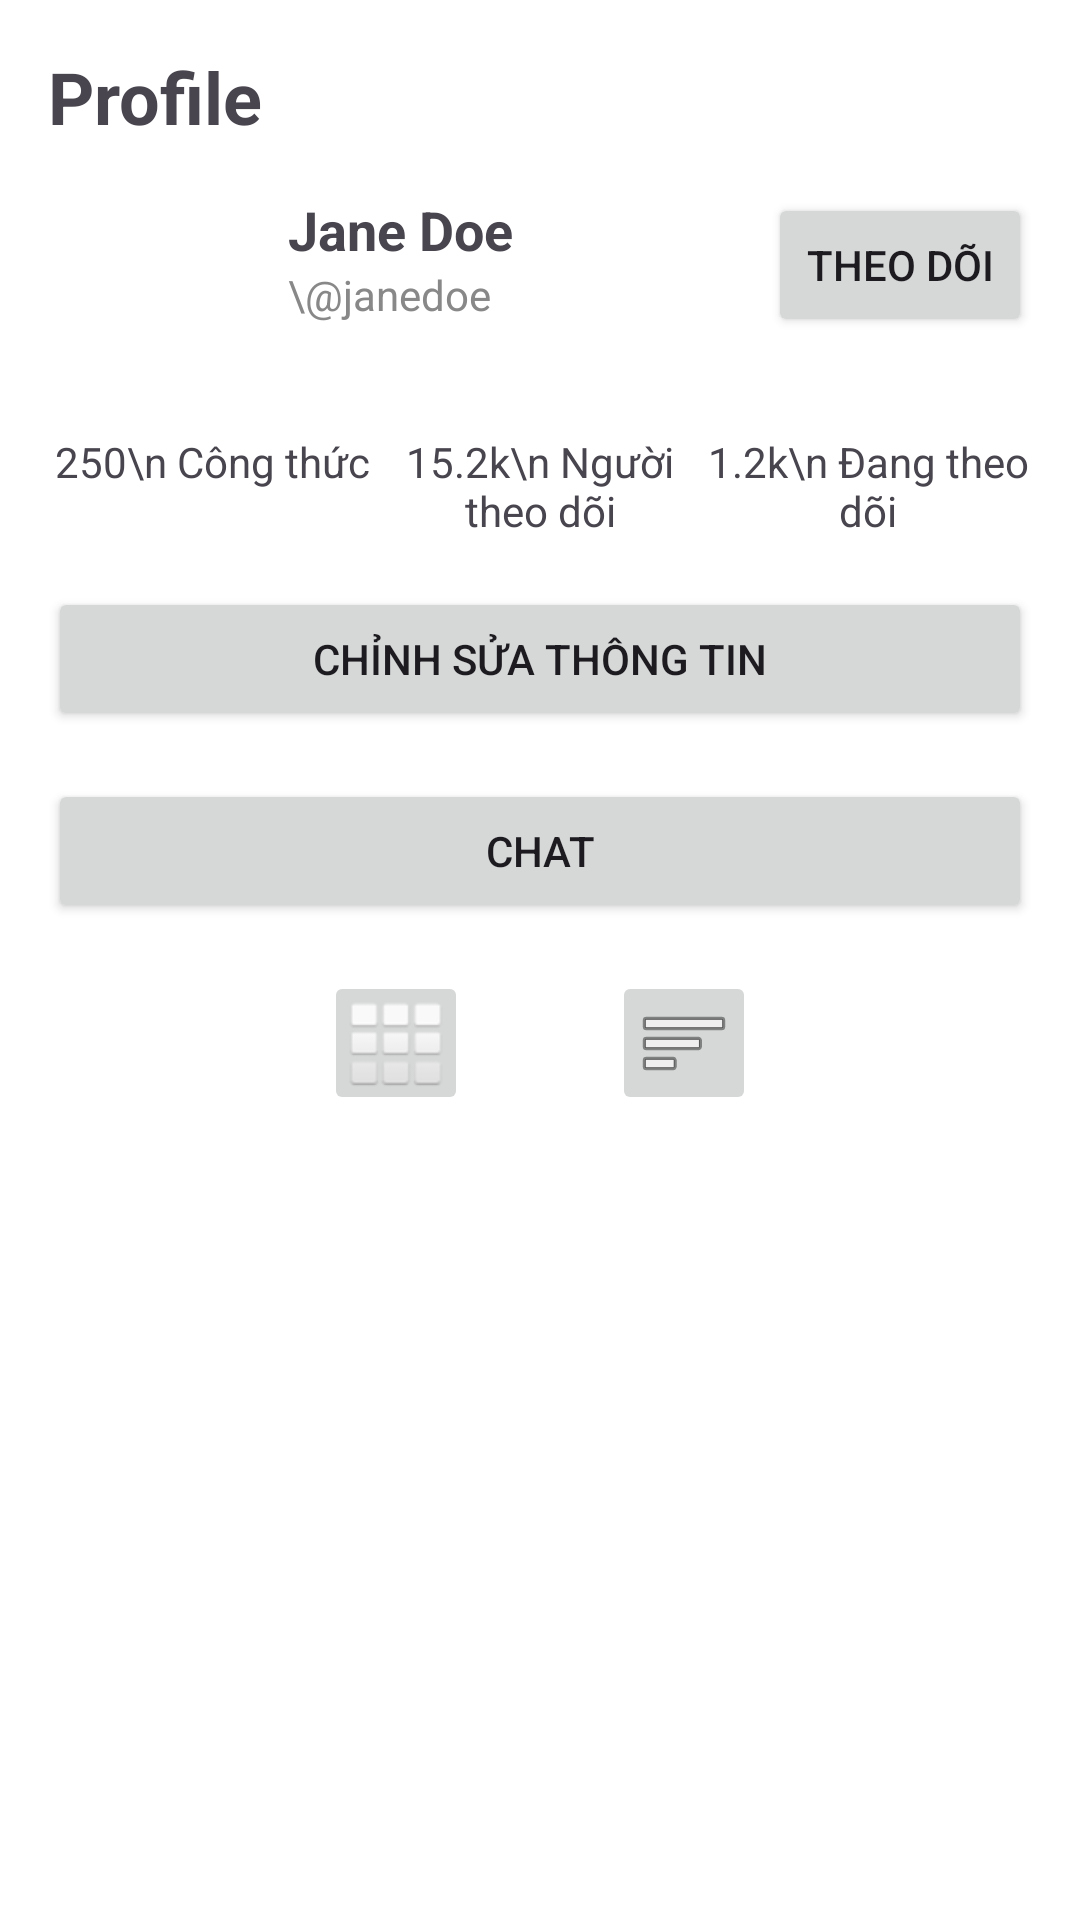

Where icons sit on this 1080*1920 app screen, as (x1, y1, x2, y2):
Grid view: (336, 989, 456, 1097)
List view: (624, 989, 744, 1097)
